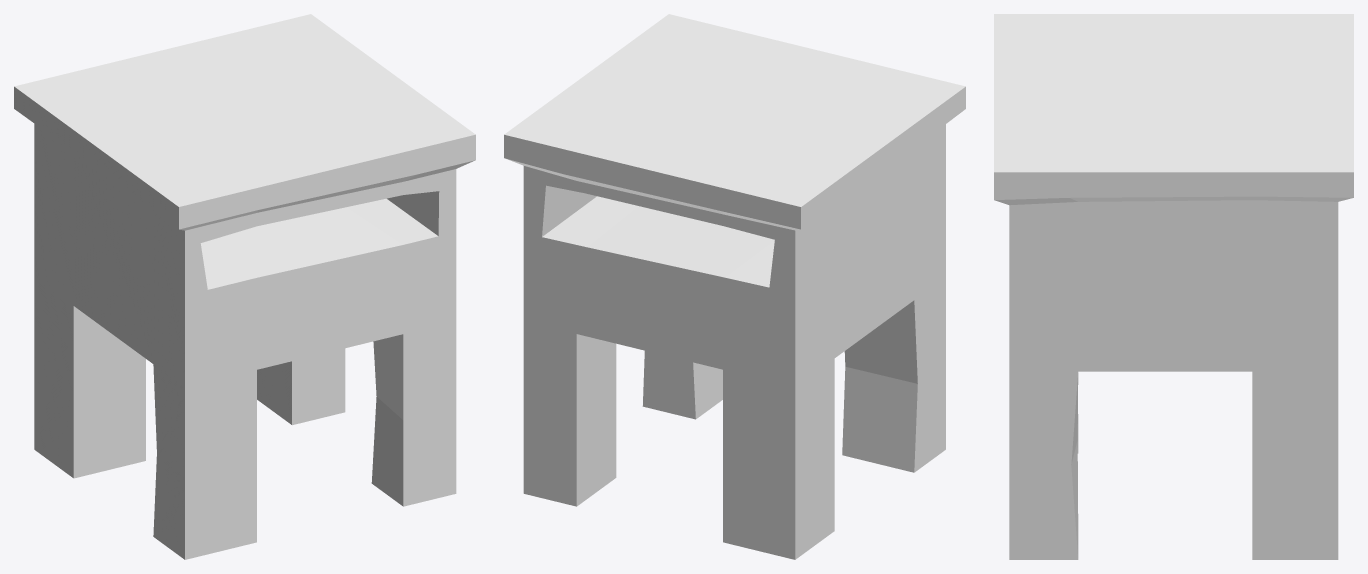
The model's file is BedsideTable.fbx.
3 views of the same model, side by side, from view 1: azimuth 30°, elevation 25°; view 2: azimuth 150°, elevation 25°; view 3: azimuth 270°, elevation 25° (orthographic). The views are drawn at different scales.
Visible parts, largest first — view 1: BedsideTable; view 2: BedsideTable; view 3: BedsideTable.
Part boxes in pixels (bbox=[...]): BedsideTable: bbox=[14, 14, 475, 559]; BedsideTable: bbox=[504, 14, 965, 559]; BedsideTable: bbox=[994, 14, 1353, 559].
Bounding box in the file's own units: 35.07 × 40.75 × 33.71.
Materials: 1 (1 with a texture image).
